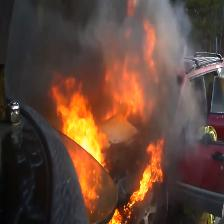fire: (51, 78, 109, 213), (103, 0, 161, 120), (108, 139, 164, 224)
